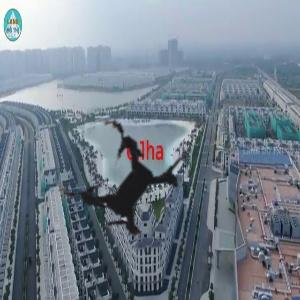drone: (22, 82, 228, 288)
